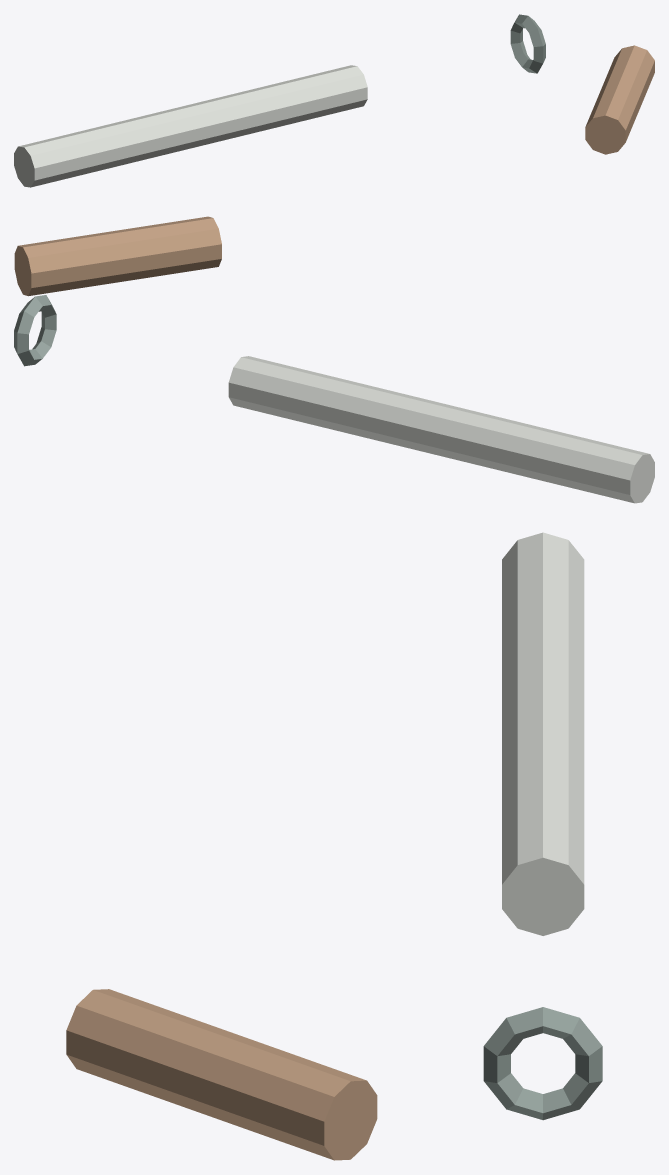
Rendered from lab_pipe_broken.glb.
3 views of the same model, one above another, from view 1: azimuth 30°, elevation 25°; view 2: azimuth 150°, elevation 25°; view 3: azimuth 270°, elevation 25° (orthographic). The views are drawn at different scales.
Visible parts, largest first — view 1: lab_pipe_broken; view 2: lab_pipe_broken; view 3: lab_pipe_broken.
Part boxes in pixels (bbox=[...]): lab_pipe_broken: bbox=[14, 14, 654, 187]; lab_pipe_broken: bbox=[14, 216, 654, 503]; lab_pipe_broken: bbox=[66, 532, 602, 1160].
Bounding box in the file's own units: 2.77 × 0.26 × 1.11.
